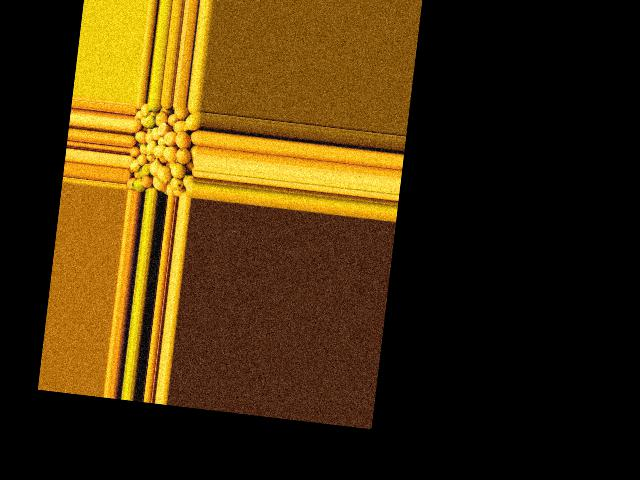lemon: (190, 145, 198, 159)
